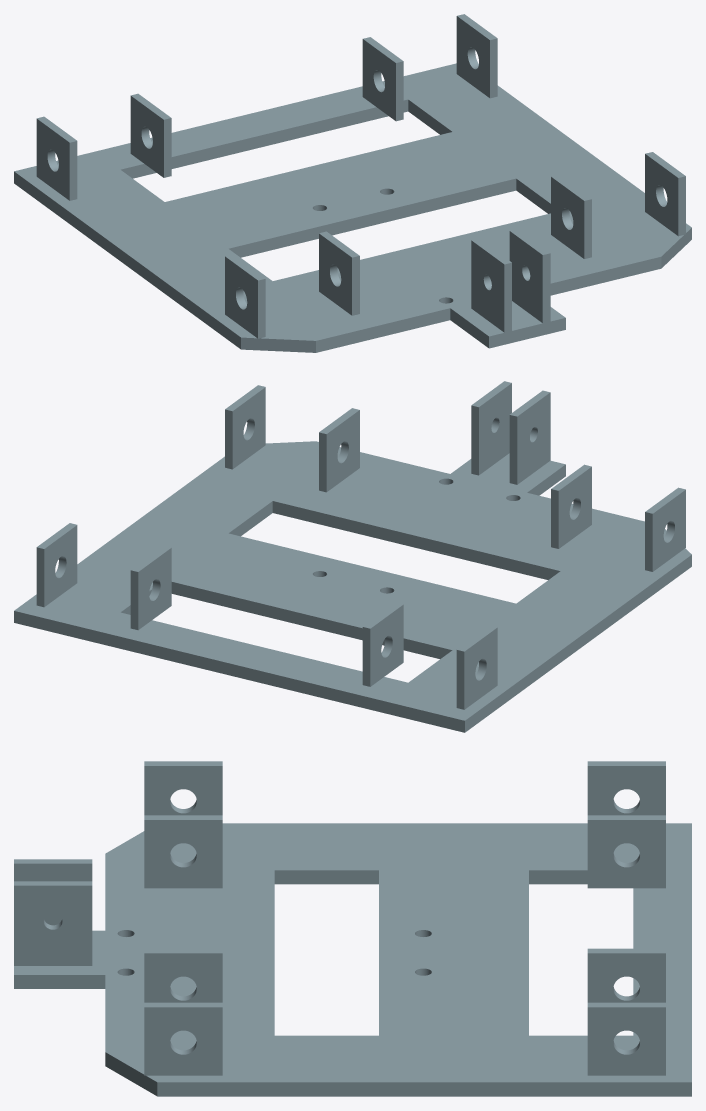
File: stationary_clamp_C02_R01.glb
3 views of the same model, one above another, from view 1: azimuth 30°, elevation 25°; view 2: azimuth 150°, elevation 25°; view 3: azimuth 270°, elevation 25° (orthographic). The views are drawn at different scales.
Visible parts, largest first — view 1: stationary_clamp_C02_R01; view 2: stationary_clamp_C02_R01; view 3: stationary_clamp_C02_R01.
Boxes of the visible parts, x1,y1,x2,y2 form: stationary_clamp_C02_R01: [14, 14, 691, 352]; stationary_clamp_C02_R01: [14, 381, 691, 732]; stationary_clamp_C02_R01: [14, 761, 691, 1096].
Size of the model in its own units: 0.47 by 0.08 by 0.52.
